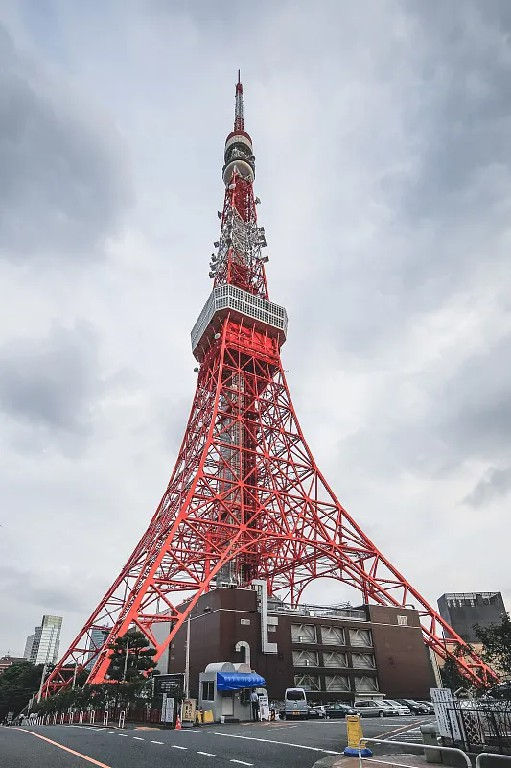Tokyo: (33, 64, 501, 698)
